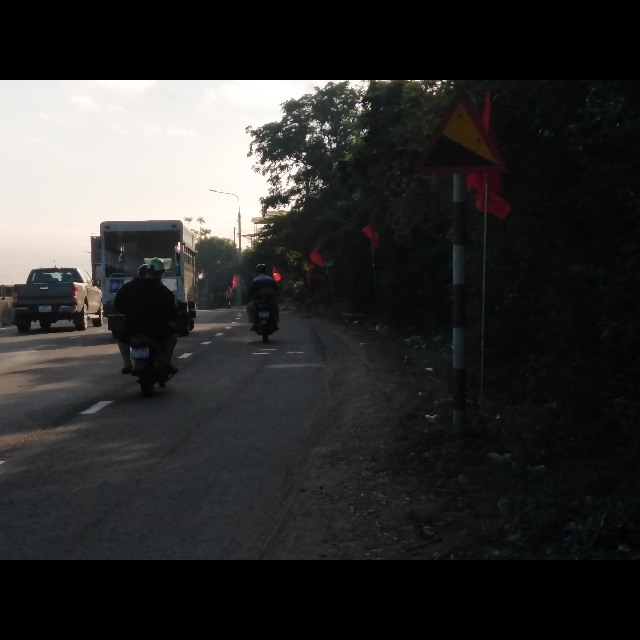Dốc lên nguy hiểm: (414, 89, 505, 176)
